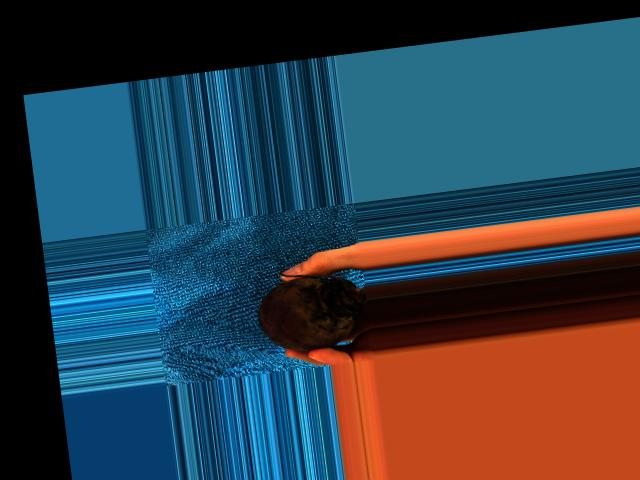beet: (252, 260, 370, 356)
